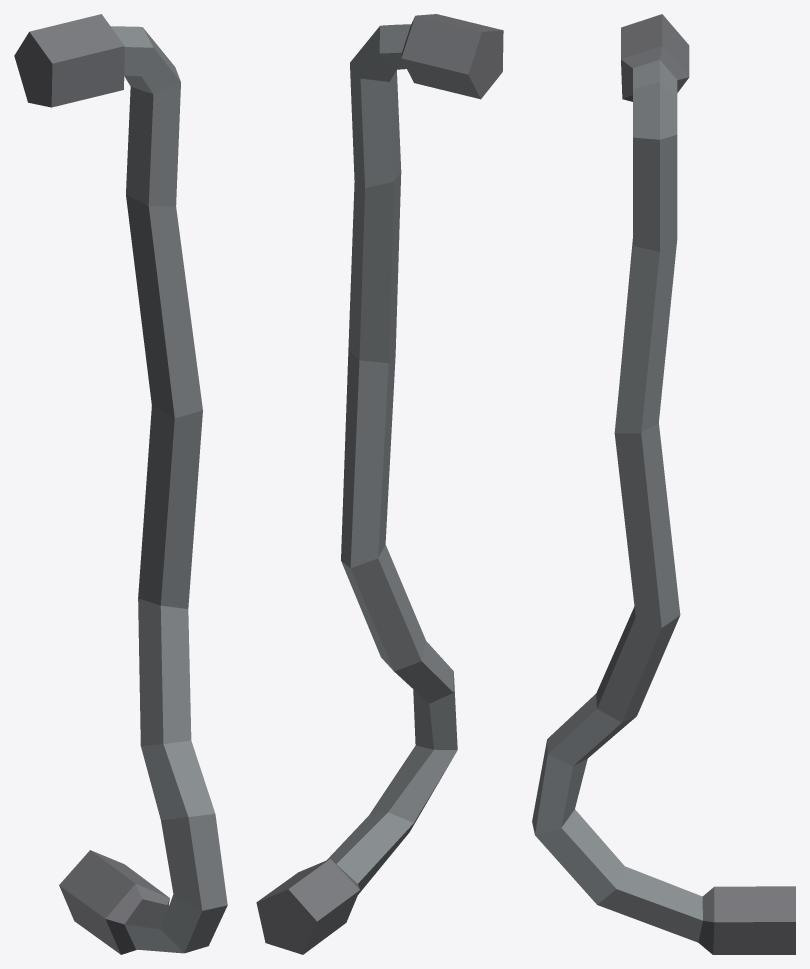
Rendered from SM_Prop_Tube_03.glb.
3 views of the same model, side by side, from view 1: azimuth 30°, elevation 25°; view 2: azimuth 150°, elevation 25°; view 3: azimuth 270°, elevation 25° (orthographic). The views are drawn at different scales.
Parts seen in each view (by area): view 1: SM_Prop_Tube_03; view 2: SM_Prop_Tube_03; view 3: SM_Prop_Tube_03.
Boxes of the visible parts, bbox=[...] form: SM_Prop_Tube_03: bbox=[14, 14, 227, 954]; SM_Prop_Tube_03: bbox=[256, 14, 503, 954]; SM_Prop_Tube_03: bbox=[532, 14, 795, 954].
Bounding box in the file's own units: 0.2347 × 1.28 × 0.3518.
1 material, 1 textured.
